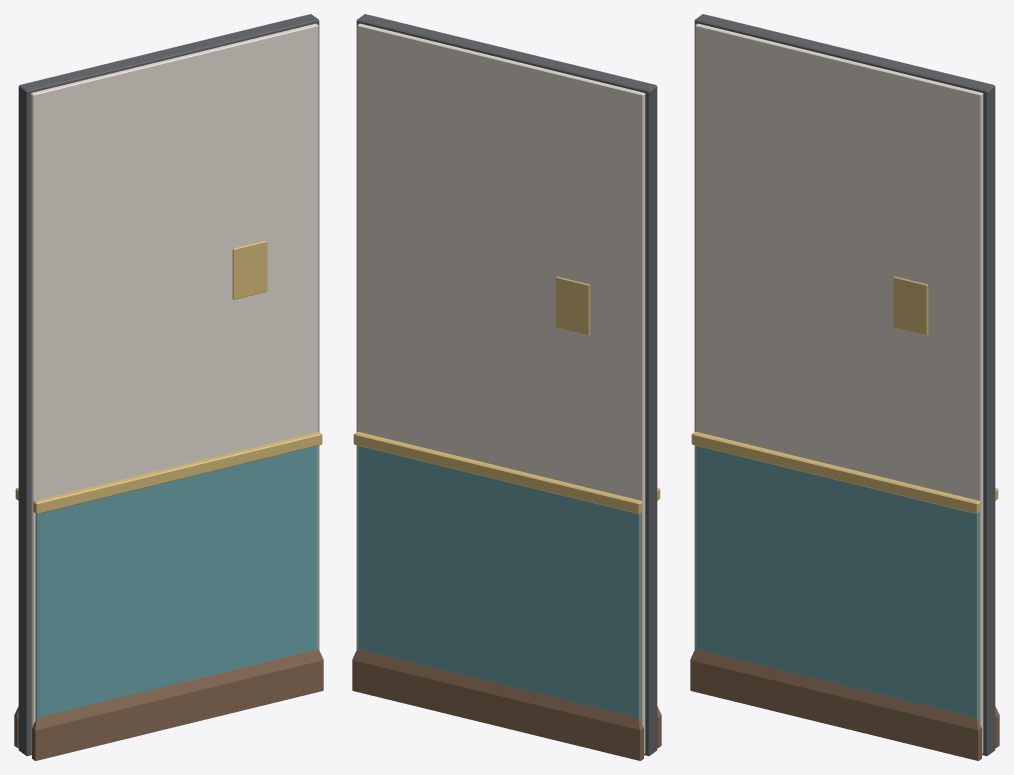
Rendered from escape-room-and-puzzle-venue-corridor-wall-module-9211ac34__35781.glb.
3 renders of one model, left to right at view 1: azimuth 30°, elevation 25°; view 2: azimuth 150°, elevation 25°; view 3: azimuth 330°, elevation 25°, orthographic.
Parts seen in each view (by area): view 1: corridor-wall-module; view 2: corridor-wall-module; view 3: corridor-wall-module.
Boxes of the visible parts, x1,y1,x2,y2 form: corridor-wall-module: (14,14,323,760); corridor-wall-module: (352,14,661,760); corridor-wall-module: (690,14,999,760).
Bounding box in the file's own units: 1.2 × 2.6 × 0.152.
